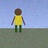person: (12, 9, 25, 32)
